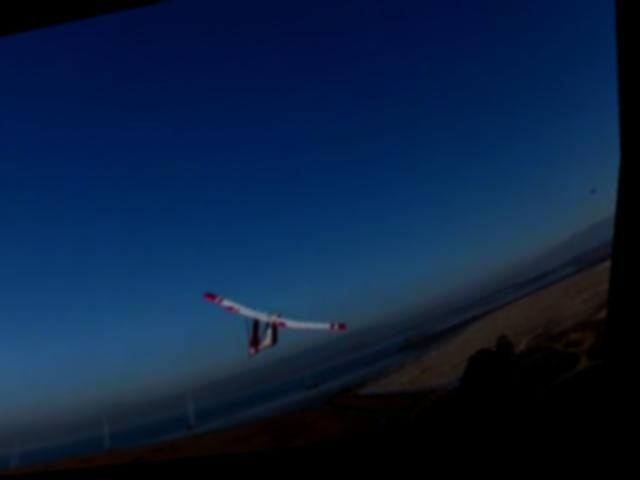uav: (202, 266, 358, 374)
